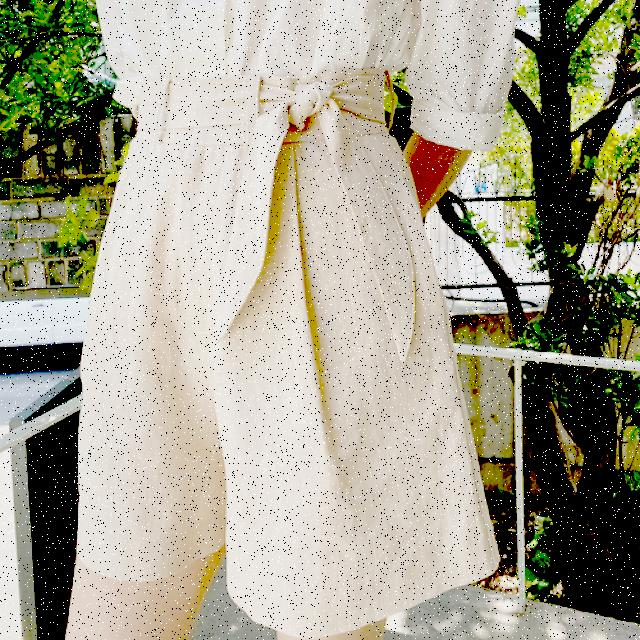Blouse_deep: (56, 84, 498, 592)
